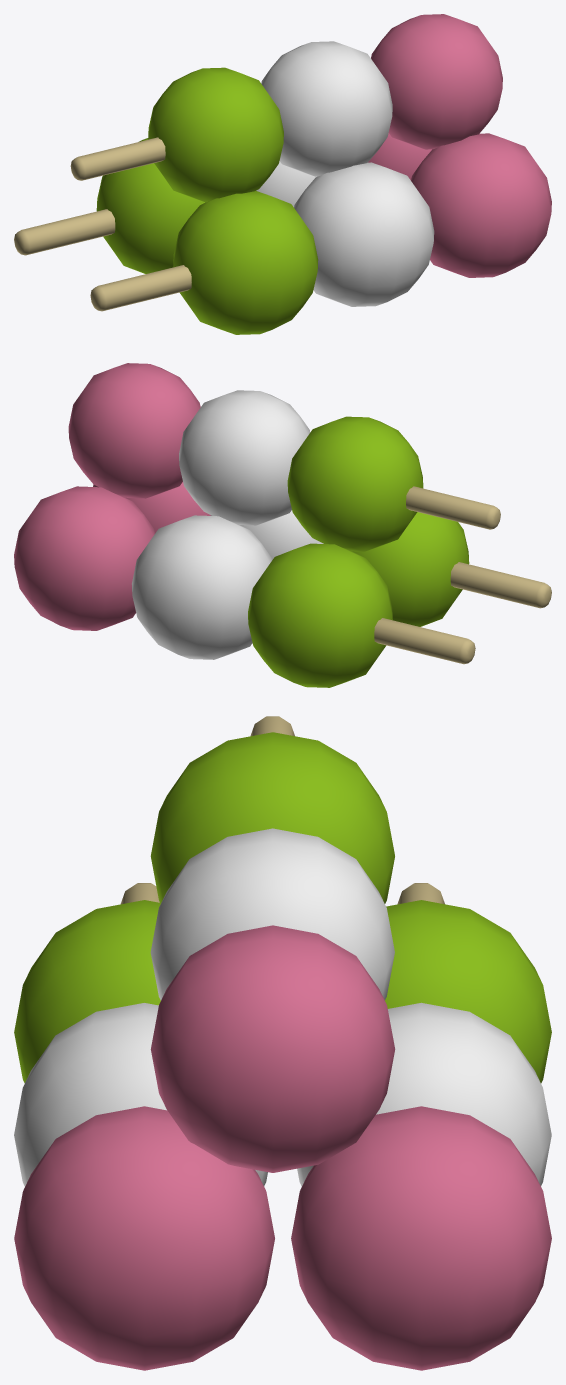
File: dango.glb
3 renders of one model, top to bottom at view 1: azimuth 30°, elevation 25°; view 2: azimuth 150°, elevation 25°; view 3: azimuth 270°, elevation 25°, orthographic. The views are drawn at different scales.
Parts seen in each view (by area): view 1: Food_Dango; view 2: Food_Dango; view 3: Food_Dango.
Part boxes in pixels (x1,y1,x2,y2): Food_Dango: (14,14,551,334); Food_Dango: (14,363,551,687); Food_Dango: (14,716,551,1370).
Size of the model in its own units: 0.9144 by 0.4428 by 0.5256.
1 material, 1 textured.
